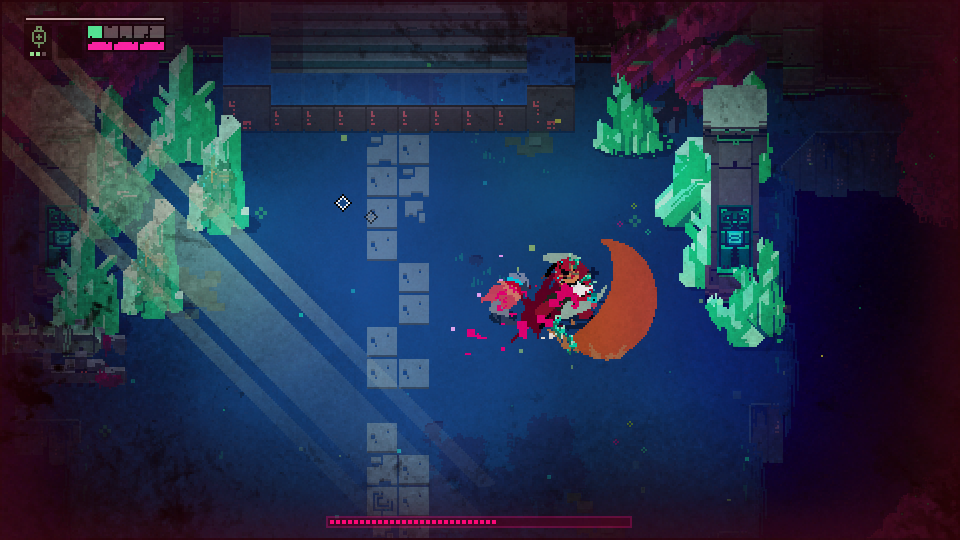hanged_man: (539, 251, 626, 366)
player: (485, 278, 524, 324)
